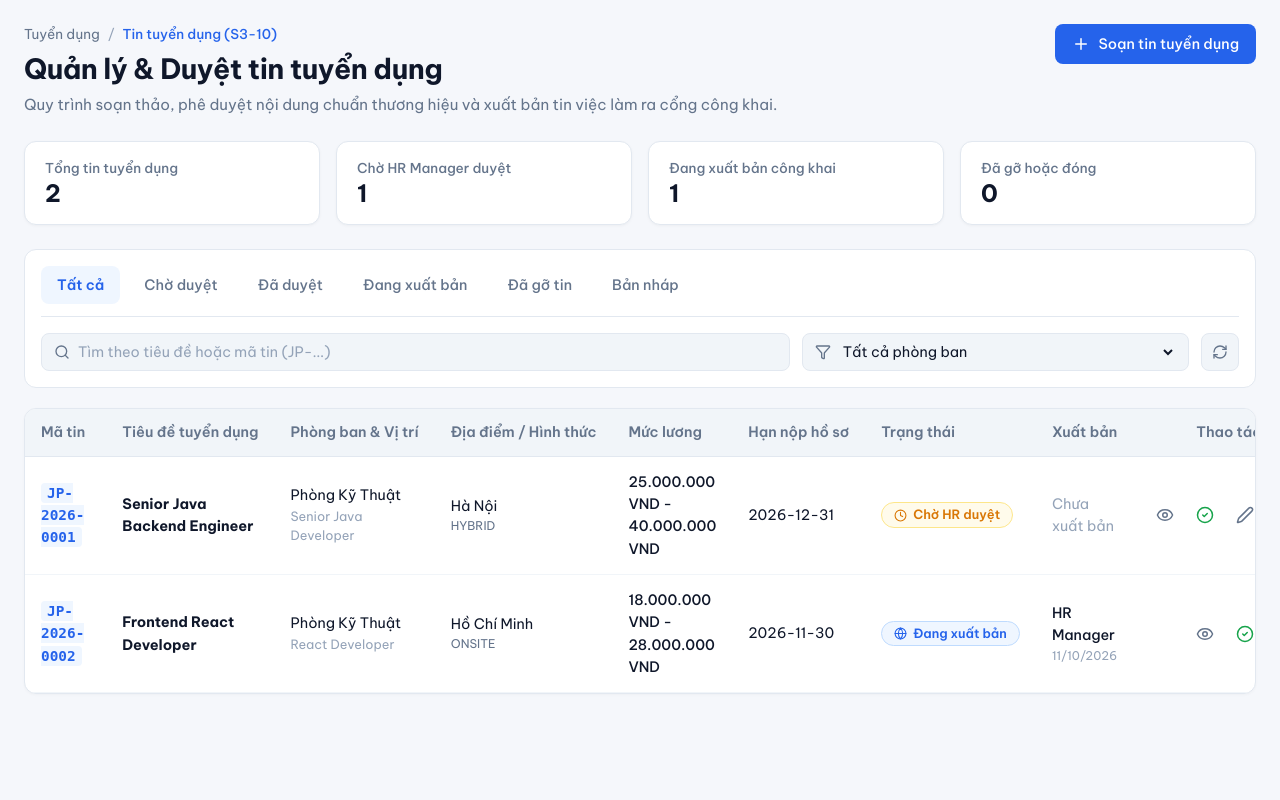
Test: JobPostingManagementPage (S3-10 / SCRUM-151 / SCRUM-149 / SCRUM-150) › TC03 (SCRUM-151 AC3 & SCRUM-149) - Phê duyệt tin thành công và hiển thị thông báo rõ ràng
// Mở modal
Click the button "Xem trước & Duyệt" in the row of "Senior Java Backend Engineer".
click(1205, 515)  # box [1189,499,1221,531]
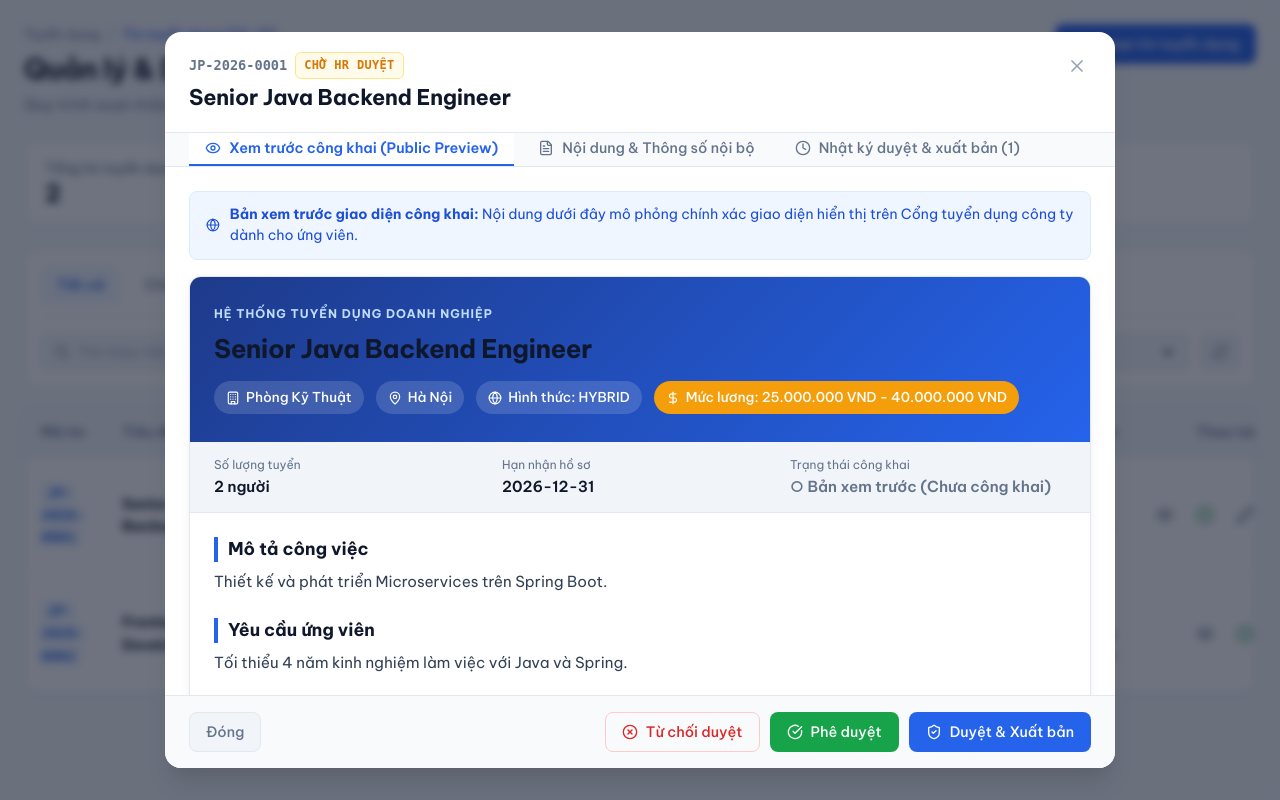
// Bấm nút "Phê duyệt"
Click the button "Phê duyệt".
click(834, 732)  # box [770,712,899,752]
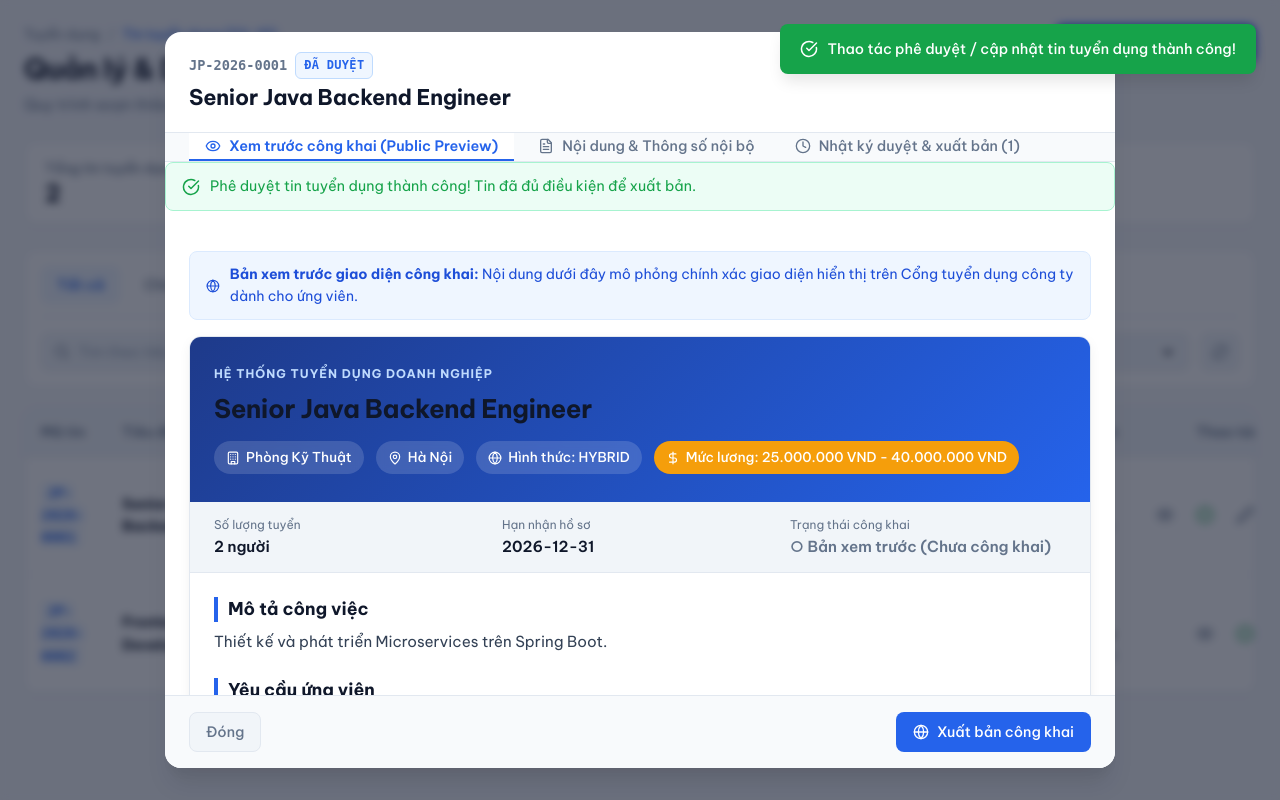
Expected: the text "Phê duyệt tin tuyển dụng thành công! Tin đã đủ điều kiện để xuất bản" is shown, [210,177,696,195]
